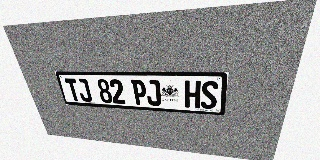2: (109, 79, 126, 104)
8: (96, 79, 113, 103)
H: (185, 80, 201, 108)
J: (75, 78, 93, 102), (145, 80, 161, 106)
P: (131, 79, 147, 105)
S: (201, 81, 219, 109)
T: (64, 78, 82, 101)
